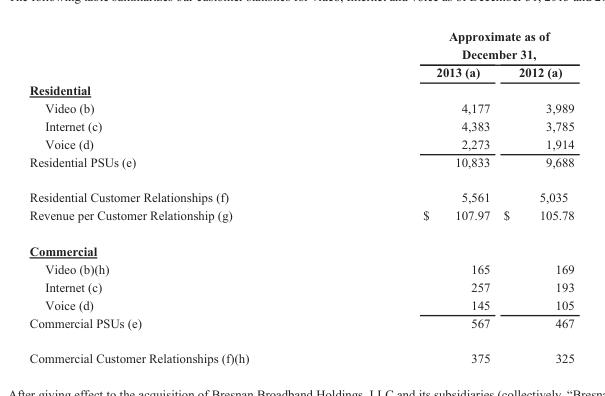table: (28, 28, 573, 365)
table column: (28, 28, 335, 365), (335, 28, 496, 365), (496, 28, 573, 365)
table column header: (28, 28, 573, 80)
table projected row header: (28, 232, 573, 259), (28, 80, 573, 98)
table row: (28, 28, 573, 62), (28, 152, 573, 179), (28, 179, 573, 206), (28, 232, 573, 259), (28, 313, 573, 340), (28, 206, 573, 232), (28, 340, 573, 365), (28, 62, 573, 80), (28, 80, 573, 98), (28, 98, 573, 116), (28, 116, 573, 134), (28, 134, 573, 152), (28, 259, 573, 277), (28, 277, 573, 295), (28, 295, 573, 313)
table spanning cell: (335, 28, 573, 62)
